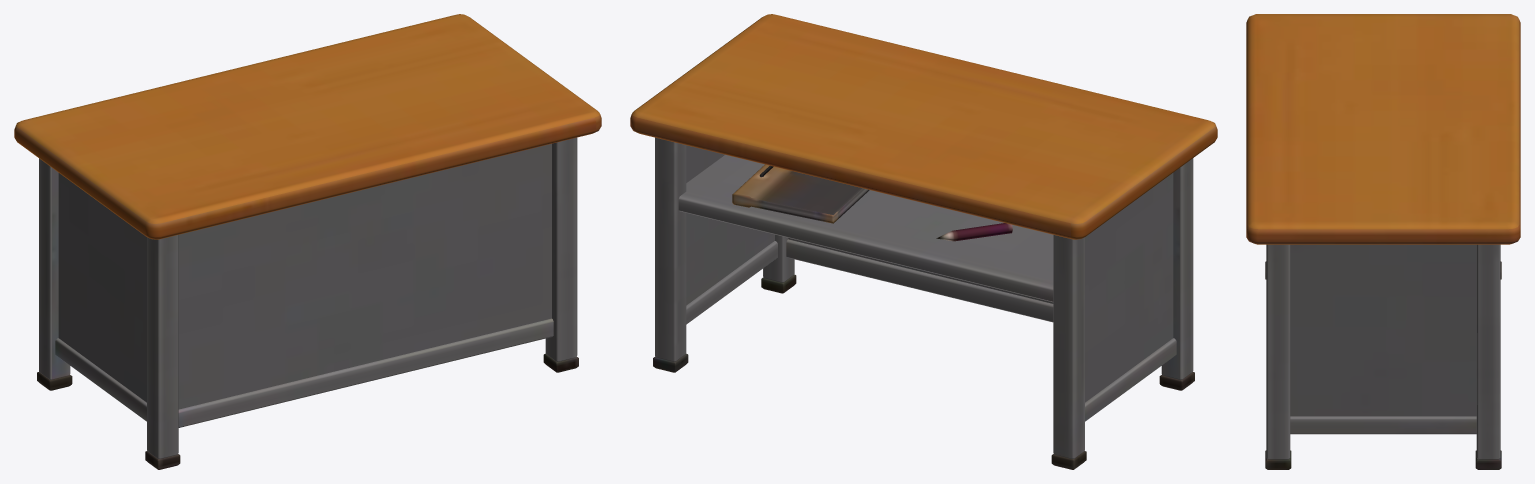
3 renders of one model, left to right at view 1: azimuth 30°, elevation 25°; view 2: azimuth 150°, elevation 25°; view 3: azimuth 270°, elevation 25°, orthographic. The views are drawn at different scales.
Size of the model in its own units: 15.84 by 8.6 by 8.51.
1 material, 1 textured.
